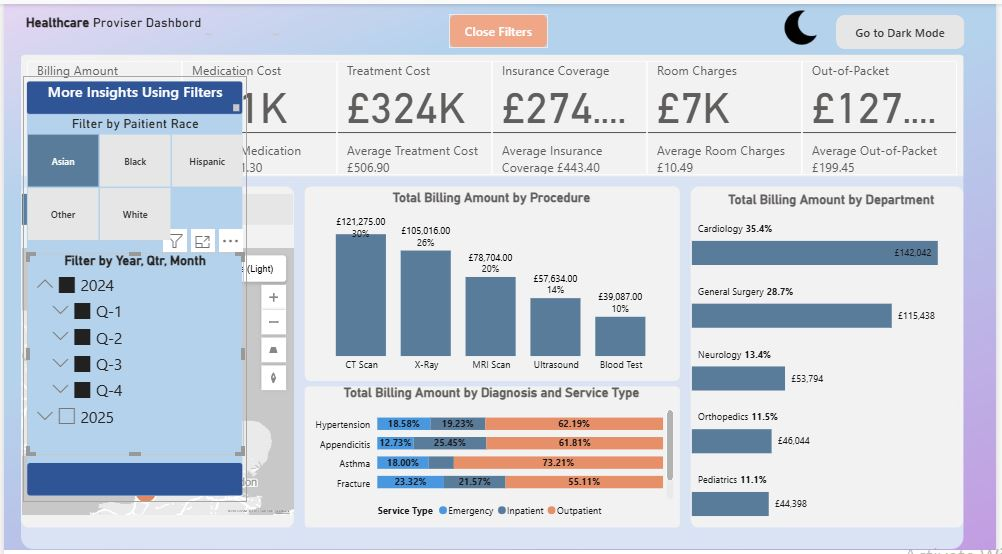

The dashboard page shown, as its layout file describes it:
{"tool":"powerbi","page":{"name":"Light Mode","canvas":[1280,720],"ordinal":1},"visuals":[{"type":"textbox","title":"Healthcare ","box":[23.8,13.8,250.3,31.2],"z":0,"group":"g2"},{"type":"cardVisual","fields":{"Data":["DAX calculation.Total Billing Amount","DAX calculation.Total Medication Cost","DAX calculation.Total Treatment Cost","DAX calculation.Total Insurance Coverage","DAX calculation.Total Room Charges","DAX calculation.Out-of-Packet"]},"box":[24.1,68,1214.6,157.3],"z":0},{"type":"actionButton","title":"Open","box":[574.8,12.9,127.6,44.4],"z":1000,"group":"g1"},{"type":"textbox","title":"Proviser Dashbord","box":[109.8,13.8,250.3,31.2],"z":1000,"group":"g2"},{"type":"qnaVisual","box":[0,705,1280,15],"z":1000},{"type":"azureMap","fields":{"Category":["cities.City"],"Size":["DAX calculation.Total Billing Amount"]},"box":[17.7,290.8,360.7,373.8],"z":2000},{"type":"advancedSlicerVisual","fields":{"Values":["Patients Location Switch.Patients Location Switch"]},"box":[17.7,240,360.7,50.8],"z":3000},{"type":"clusteredColumnChart","fields":{"Category":["procedures.Procedure"],"Y":["DAX calculation.Total Billing Amount"]},"box":[390.3,239.5,478.7,244.3],"z":4000},{"type":"hundredPercentStackedBarChart","fields":{"Y":["DAX calculation.Total Billing Amount"],"Category":["diagnoses.Diagnosis"],"Series":["visits.Service Type"]},"box":[390.3,492.2,478.7,180.3],"z":5000},{"type":"clusteredBarChart","title":"Total Billing Amount by Department","fields":{"Category":["departments.Department"],"Y":["DAX calculation.Blank Measure","DAX calculation.Total Billing Amount"]},"box":[883,242.9,370,425.7],"z":6000},{"type":"actionButton","box":[1072.9,14.2,165.8,43.9],"z":7000},{"type":"group","id":"g1","title":"Slicers Buttons","box":[574.8,12.9,127.6,44.4],"z":9000},{"type":"group","id":"g2","title":"Group 1","box":[23.8,13.8,336.2,31.2],"z":10002}]}

Visuals, with their boxes in screenshot pixels (x1, y1, x2, y2), scaled from the page's 1280x720 canvas onto the 1002x554 screenshot:
"Healthcare " textbox: detection(19, 11, 215, 35)
cardVisual - DAX calculation.Total Billing Amount x DAX calculation.Total Medication Cost: detection(19, 52, 970, 173)
"Open" actionButton: detection(450, 10, 550, 44)
"Proviser Dashbord" textbox: detection(86, 11, 282, 35)
qnaVisual: detection(0, 542, 1001, 553)
azureMap - cities.City x DAX calculation.Total Billing Amount: detection(14, 224, 296, 511)
advancedSlicerVisual - Patients Location Switch.Patients Location Switch: detection(14, 185, 296, 224)
clusteredColumnChart - procedures.Procedure x DAX calculation.Total Billing Amount: detection(306, 184, 680, 372)
hundredPercentStackedBarChart - DAX calculation.Total Billing Amount x diagnoses.Diagnosis: detection(306, 379, 680, 517)
"Total Billing Amount by Department" clusteredBarChart: detection(691, 187, 981, 514)
actionButton: detection(840, 11, 970, 45)
"Slicers Buttons" group: detection(450, 10, 550, 44)
"Group 1" group: detection(19, 11, 282, 35)
